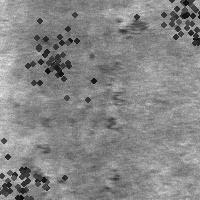rolled-in_scale: (0, 0, 111, 111), (0, 131, 72, 200), (142, 0, 200, 60), (88, 55, 128, 135), (17, 140, 66, 189), (113, 15, 157, 40)
